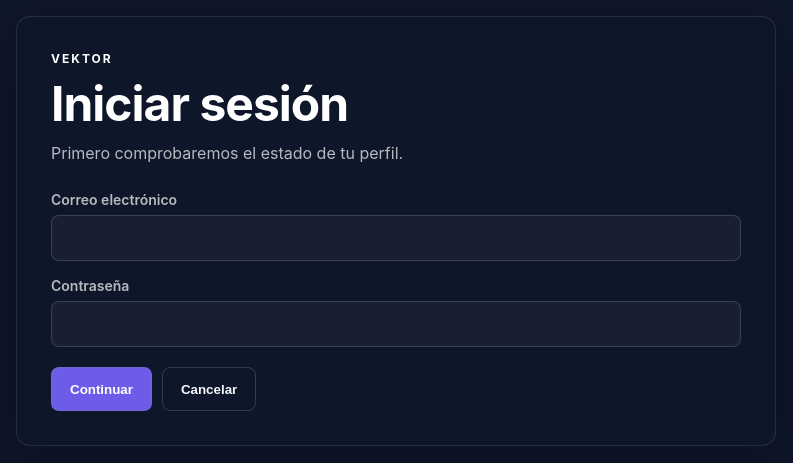
Test: Login › debe deshabilitar botones mientras se envía
In the field labelled "Correo electrónico": (396, 238) [51,215,741,261], type "test@example.com"
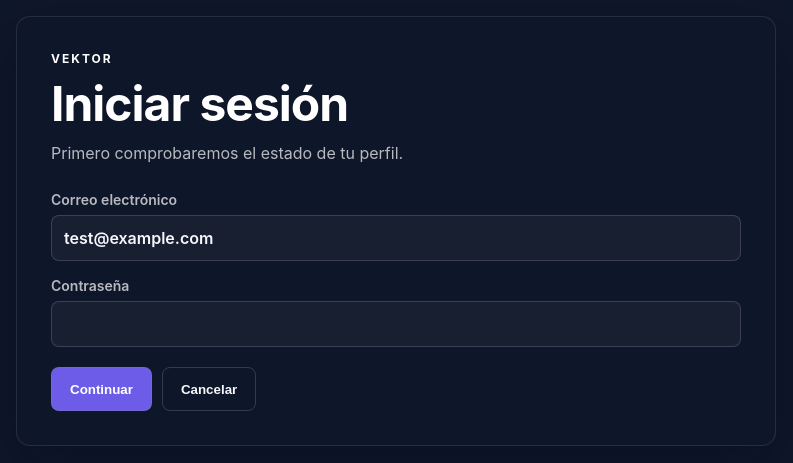
In the password field labelled "Contraseña": (396, 324) [51,301,741,347], type "password123"
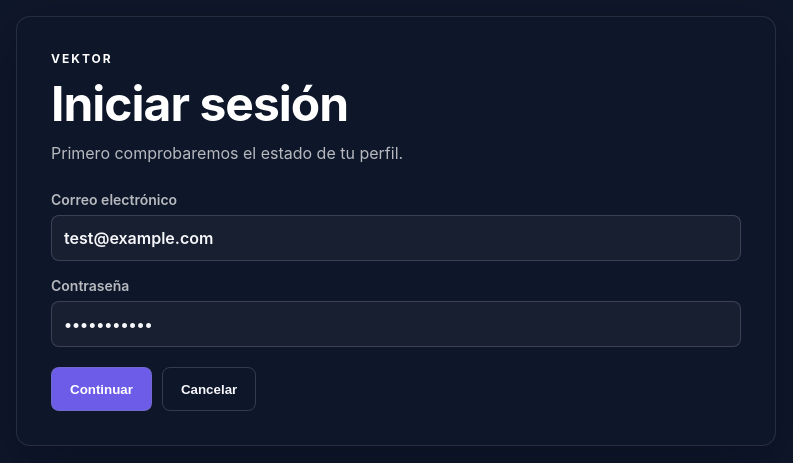
Click the button "Continuar": (101, 389) [51,367,152,411]
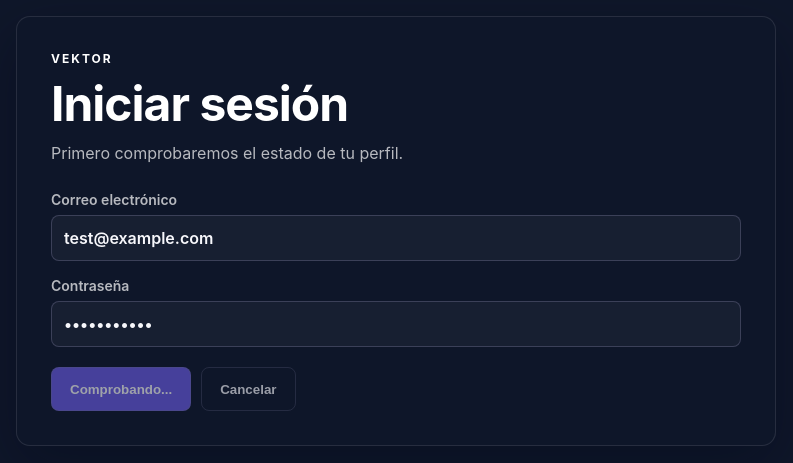
Check: the button "Comprobando..." is disabled, box [51,367,191,411]
